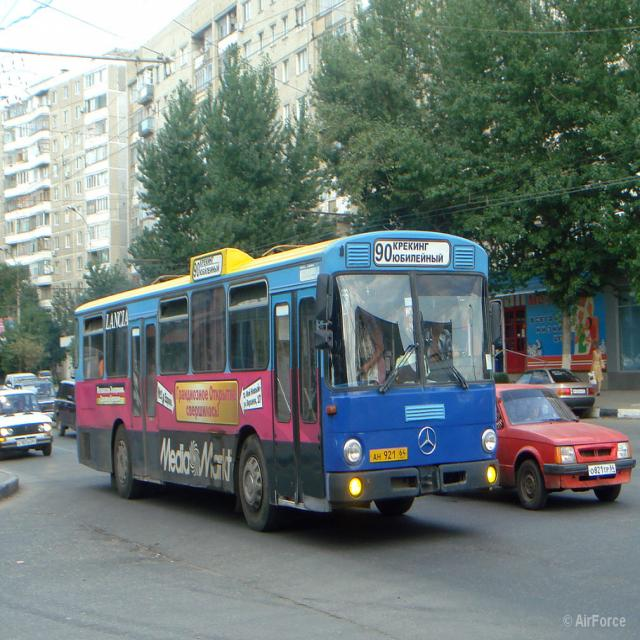number-of-bus: (377, 237, 394, 268)
